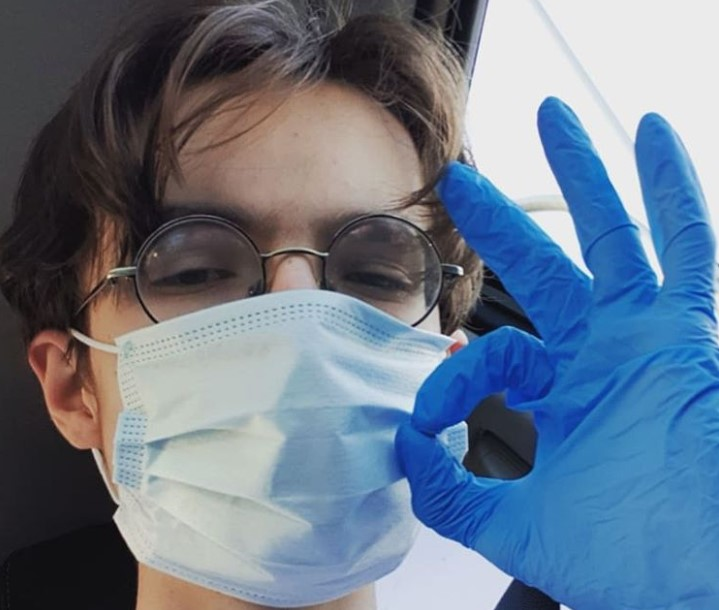face_with_mask: (14, 4, 514, 607)
